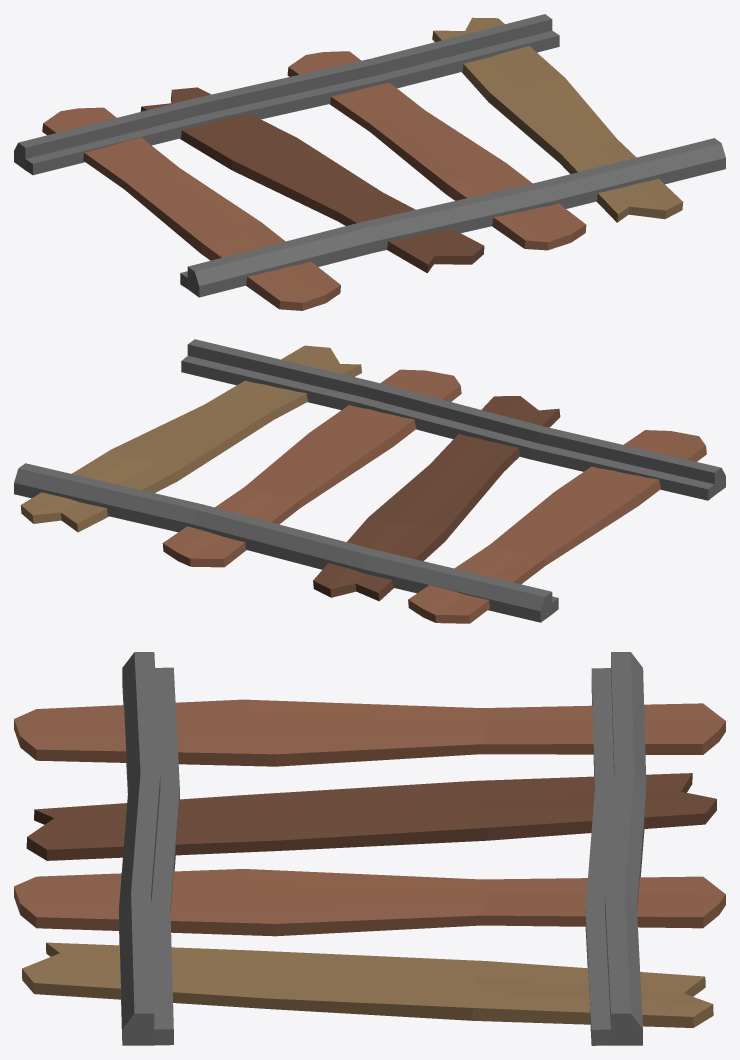
The model's file is TrainTracks.fbx.
The picture shows the model from 3 angles, top to bottom: view 1: azimuth 30°, elevation 25°; view 2: azimuth 150°, elevation 25°; view 3: azimuth 270°, elevation 25°; orthographic projection. The views are drawn at different scales.
Parts seen in each view (by area): view 1: Cube.325, Cube.320, Cube.324, Cube.323, Cube.322, Cube.321; view 2: Cube.320, Cube.325, Cube.321, Cube.322, Cube.324, Cube.323; view 3: Cube.324, Cube.322, Cube.321, Cube.323, Cube.325, Cube.320.
Part boxes in pixels (x1,y1,x2,y2): Cube.325: (14, 14, 559, 175); Cube.320: (180, 138, 725, 297); Cube.324: (42, 107, 340, 310); Cube.323: (140, 87, 484, 273); Cube.322: (287, 51, 586, 250); Cube.321: (432, 17, 683, 222); Cube.320: (181, 339, 725, 500); Cube.325: (14, 463, 558, 622); Cube.321: (20, 345, 361, 532); Cube.322: (162, 369, 461, 567); Cube.324: (408, 430, 706, 623); Cube.323: (313, 396, 560, 601); Cube.324: (14, 699, 725, 766); Cube.322: (14, 869, 725, 936); Cube.321: (22, 942, 713, 1027); Cube.323: (26, 773, 716, 860); Cube.325: (585, 652, 646, 1045); Cube.320: (119, 652, 179, 1045).
Bounding box in the file's own units: 401 × 19.05 × 333.
